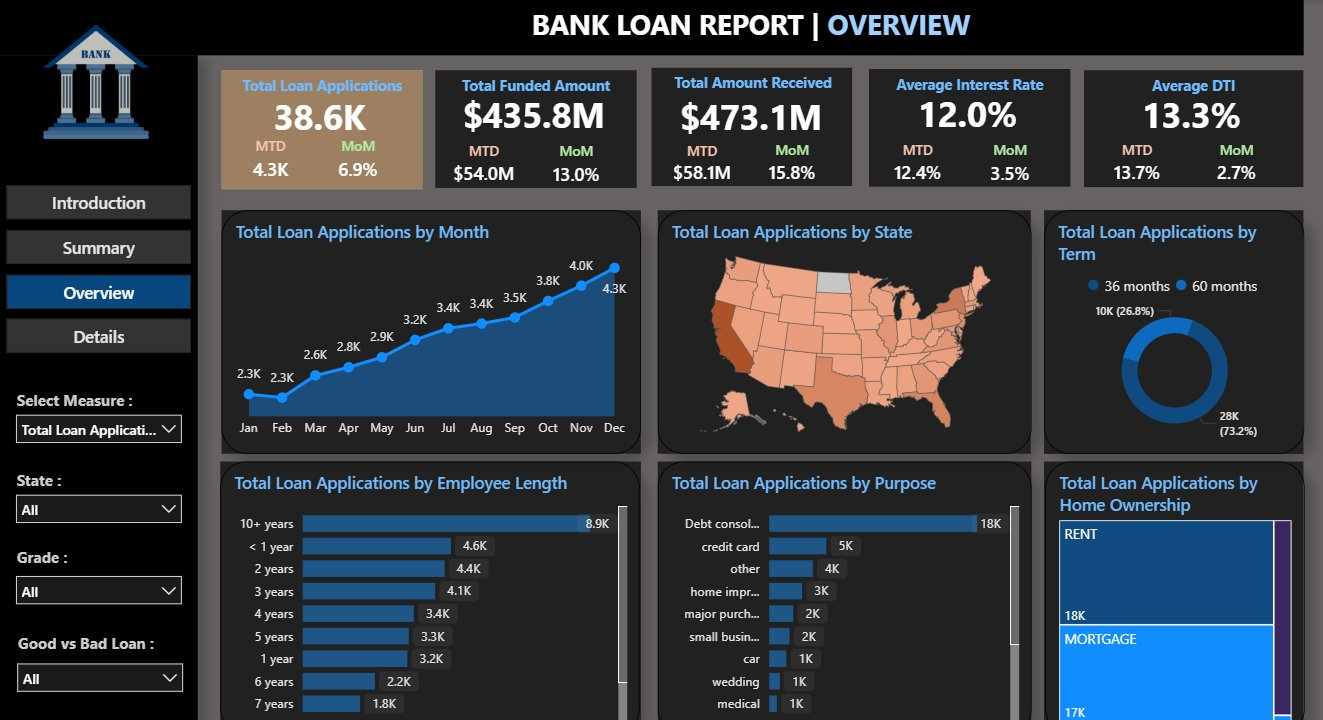

This screenshot's page, from the dashboard's own definition file:
{"tool":"powerbi","page":{"name":"Overview","canvas":[1280,720],"ordinal":2},"visuals":[{"type":"shape","box":[629.2,66.4,193.8,114.2],"z":0,"group":"g3"},{"type":"shape","box":[839.7,67.5,194.5,114],"z":0,"group":"g4"},{"type":"shape","box":[214.3,68.6,194.3,114.3],"z":0,"group":"g1"},{"type":"shape","box":[421.4,68.6,194.5,114],"z":0,"group":"g2"},{"type":"shape","box":[1047.5,69,211.7,112.9],"z":0,"group":"g5"},{"type":"shape","box":[214.3,204.3,405,235],"z":0},{"type":"shape","box":[0,0,1259.3,54.7],"z":1000},{"type":"card","fields":{"Values":["table_measures.avg_interest_rate"]},"box":[851.5,82.1,165.9,58.4],"z":1000,"group":"g4"},{"type":"card","fields":{"Values":["table_measures.total_loan_appl"]},"box":[247.2,83.2,124.3,61.3],"z":1000,"group":"g1"},{"type":"card","fields":{"Values":["table_measures.total_funded_amt"]},"box":[433.2,83.2,165.9,58.4],"z":1000,"group":"g2"},{"type":"card","fields":{"Values":["table_measures.avg_DTI"]},"box":[1060.3,83.4,180.6,57.8],"z":1000,"group":"g5"},{"type":"card","fields":{"Values":["table_measures.total_received_amt"]},"box":[643.2,85.3,163.1,55.8],"z":1000,"group":"g3"},{"type":"shape","box":[0,54.7,191.9,655.8],"z":2000},{"type":"textbox","box":[632.2,67,191,41.6],"z":2000,"group":"g3"},{"type":"textbox","box":[839.7,67.5,194.5,38.9],"z":2000,"group":"g4"},{"type":"textbox","box":[214.3,68.6,194.3,39],"z":2000,"group":"g1"},{"type":"textbox","box":[421.4,68.6,194.5,38.9],"z":2000,"group":"g2"},{"type":"textbox","box":[1047.5,69,211.7,38.5],"z":2000,"group":"g5"},{"type":"card","title":"MTD","fields":{"Values":["table_measures.MTD_loan_appl"]},"box":[235.7,132.7,51.4,50.2],"z":3000,"group":"g1"},{"type":"card","title":"MTD","fields":{"Values":["table_measures.MTD_interest_rate"]},"box":[851.5,136.3,70.1,48.6],"z":3000,"group":"g4"},{"type":"card","title":"MTD","fields":{"Values":["table_measures.MTD_received_amt"]},"box":[643.2,137.1,68.9,46.5],"z":3000,"group":"g3"},{"type":"card","title":"MTD","fields":{"Values":["table_measures.MTD_avg_DTI"]},"box":[1060.3,137.1,76.3,48.2],"z":3000,"group":"g5"},{"type":"card","title":"MTD","fields":{"Values":["table_measures.MTD_funded_amt"]},"box":[433.2,137.4,70.1,48.6],"z":3000,"group":"g2"},{"type":"textbox","box":[12.4,448.7,119.7,38.5],"z":3000},{"type":"textbox","box":[509.2,1.4,447.3,49.5],"z":4000},{"type":"card","title":"MoM","fields":{"Values":["table_measures.MOM_loan_appl"]},"box":[320,132.7,51.4,50.2],"z":4000,"group":"g1"},{"type":"card","title":"MoM","fields":{"Values":["table_measures.MOM_interest_rate"]},"box":[946.6,136.1,57.8,49.7],"z":4000,"group":"g4"},{"type":"card","title":"MoM","fields":{"Values":["table_measures.MOM_received_amt"]},"box":[736.7,136.9,56.8,47.5],"z":4000,"group":"g3"},{"type":"card","title":"MoM","fields":{"Values":["table_measures.MOM_avg_DTI"]},"box":[1163.9,136.9,62.9,49.2],"z":4000,"group":"g5"},{"type":"card","title":"MoM","fields":{"Values":["table_measures.MOM_funded_amt"]},"box":[528.3,137.2,57.8,49.7],"z":4000,"group":"g2"},{"type":"group","id":"g1","title":"Group 1","box":[214.3,68.6,194.3,114.3],"z":5000},{"type":"group","id":"g2","title":"Group 1","box":[421.4,68.6,194.3,118],"z":6000},{"type":"group","id":"g3","title":"Group 1","box":[629.2,66.4,194,118],"z":7000},{"type":"group","id":"g4","title":"Group 1","box":[839.7,67.5,194.5,118.2],"z":8000},{"type":"group","id":"g5","title":"Group 1","box":[1047.5,69,211.5,116.9],"z":9000},{"type":"shape","box":[635.9,203.7,360,235],"z":10000},{"type":"slicer","fields":{"Values":["financial_loan.address_state"]},"box":[5.5,468,180.3,50.9],"z":11000},{"type":"slicer","fields":{"Values":["financial_loan.grade"]},"box":[5.5,546.4,180.3,50.9],"z":12000},{"type":"textbox","box":[12.4,523,119.7,38.5],"z":13000},{"type":"slicer","fields":{"Values":["financial_loan.Good vs Band Loan"]},"box":[6.9,630.4,180.3,50.9],"z":14000},{"type":"textbox","box":[13.8,607,163.8,38.5],"z":15000},{"type":"areaChart","fields":{"Y":["table_measures.total_loan_appl"],"Category":["Date Table.Month"]},"box":[214.7,203.7,404.6,235.4],"z":16000},{"type":"slicer","fields":{"Values":["Select Measure.Select Measure"]},"box":[5.5,390.9,180.3,55.1],"z":17000},{"type":"shape","box":[213.3,445.9,406,264.3],"z":18000},{"type":"shapeMap","fields":{"Value":["table_measures.total_loan_appl"],"Category":["financial_loan.address_state"]},"box":[635.9,203.7,360.6,235.4],"z":19000},{"type":"shape","box":[1008.9,203.7,250.5,235.4],"z":20000},{"type":"donutChart","fields":{"Y":["table_measures.total_loan_appl"],"Category":["financial_loan.term"]},"box":[1008.1,203.5,251.2,234.9],"z":21000},{"type":"barChart","fields":{"Y":["table_measures.total_loan_appl"],"Category":["financial_loan.emp_length"]},"box":[213.3,445.9,404.6,264.3],"z":22000},{"type":"textbox","box":[12.4,371.6,139,38.5],"z":23000},{"type":"shape","box":[635.9,445.9,360.6,264.3],"z":24000},{"type":"barChart","fields":{"Y":["table_measures.total_loan_appl"],"Category":["financial_loan.purpose"]},"box":[635.9,445.9,360.6,264.3],"z":25000},{"type":"shape","box":[1008.9,445.9,250.5,264.3],"z":26000},{"type":"treemap","fields":{"Values":["table_measures.total_loan_appl"],"Group":["financial_loan.home_ownership"]},"box":[1009.3,446.5,250,264],"z":27000},{"type":"pageNavigator","box":[6.9,180.3,178.9,163.8],"z":28000},{"type":"image","box":[0,1.4,187.2,156.9],"z":29000}]}

Visuals, with their boxes on the page's 1280x720 design canvas (x1, y1, x2, y2). These are canvas units, not pixel positions in the 1323x720 screenshot, which may show the page scaled, cropped or inside an application window:
shape: [629,66,823,181]
shape: [840,68,1034,182]
shape: [214,69,409,183]
shape: [421,69,616,183]
shape: [1048,69,1259,182]
shape: [214,204,619,439]
shape: [0,0,1259,55]
card - table_measures.avg_interest_rate: [852,82,1017,140]
card - table_measures.total_loan_appl: [247,83,372,144]
card - table_measures.total_funded_amt: [433,83,599,142]
card - table_measures.avg_DTI: [1060,83,1241,141]
card - table_measures.total_received_amt: [643,85,806,141]
shape: [0,55,192,710]
textbox: [632,67,823,109]
textbox: [840,68,1034,106]
textbox: [214,69,409,108]
textbox: [421,69,616,108]
textbox: [1048,69,1259,108]
"MTD" card: [236,133,287,183]
"MTD" card: [852,136,922,185]
"MTD" card: [643,137,712,184]
"MTD" card: [1060,137,1137,185]
"MTD" card: [433,137,503,186]
textbox: [12,449,132,487]
textbox: [509,1,956,51]
"MoM" card: [320,133,371,183]
"MoM" card: [947,136,1004,186]
"MoM" card: [737,137,794,184]
"MoM" card: [1164,137,1227,186]
"MoM" card: [528,137,586,187]
"Group 1" group: [214,69,409,183]
"Group 1" group: [421,69,616,187]
"Group 1" group: [629,66,823,184]
"Group 1" group: [840,68,1034,186]
"Group 1" group: [1048,69,1259,186]
shape: [636,204,996,439]
slicer - financial_loan.address_state: [6,468,186,519]
slicer - financial_loan.grade: [6,546,186,597]
textbox: [12,523,132,562]
slicer - financial_loan.Good vs Band Loan: [7,630,187,681]
textbox: [14,607,178,646]
areaChart - table_measures.total_loan_appl x Date Table.Month: [215,204,619,439]
slicer - Select Measure.Select Measure: [6,391,186,446]
shape: [213,446,619,710]
shapeMap - table_measures.total_loan_appl x financial_loan.address_state: [636,204,996,439]
shape: [1009,204,1259,439]
donutChart - table_measures.total_loan_appl x financial_loan.term: [1008,204,1259,438]
barChart - table_measures.total_loan_appl x financial_loan.emp_length: [213,446,618,710]
textbox: [12,372,151,410]
shape: [636,446,996,710]
barChart - table_measures.total_loan_appl x financial_loan.purpose: [636,446,996,710]
shape: [1009,446,1259,710]
treemap - table_measures.total_loan_appl x financial_loan.home_ownership: [1009,446,1259,710]
pageNavigator: [7,180,186,344]
image: [0,1,187,158]
